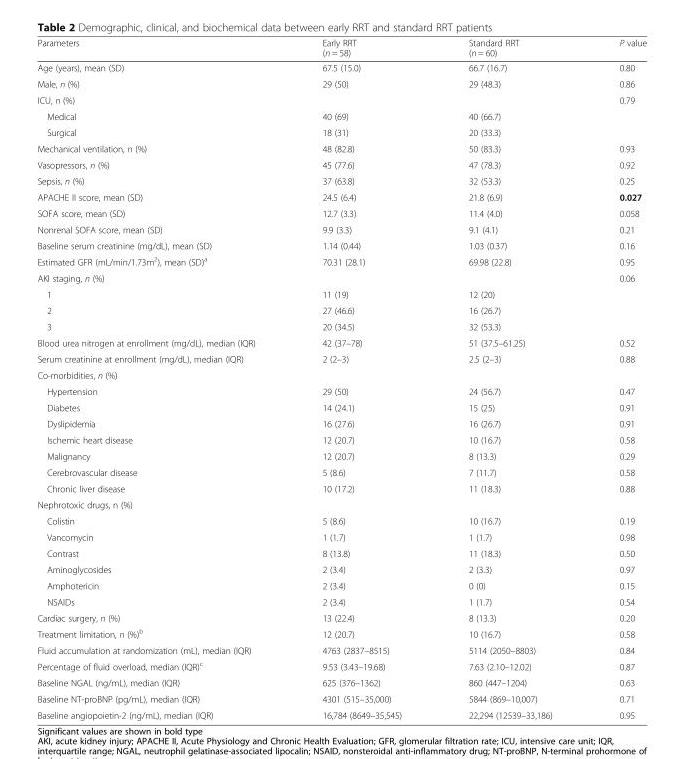table: (36, 37, 646, 720)
table column: (36, 37, 288, 720), (434, 37, 585, 720), (288, 37, 434, 720), (585, 37, 646, 720)
table column header: (36, 37, 646, 59)
table projected row header: (36, 366, 646, 383), (36, 496, 646, 512)
table row: (36, 37, 646, 59), (36, 107, 646, 124), (36, 204, 646, 221), (36, 252, 646, 269), (36, 285, 646, 302), (36, 366, 646, 383), (36, 463, 646, 480), (36, 544, 646, 561), (36, 657, 646, 674), (36, 59, 646, 75), (36, 75, 646, 91), (36, 91, 646, 107), (36, 124, 646, 140), (36, 140, 646, 156), (36, 156, 646, 172), (36, 172, 646, 188), (36, 188, 646, 204), (36, 221, 646, 237), (36, 269, 646, 285), (36, 302, 646, 318), (36, 318, 646, 334), (36, 334, 646, 350), (36, 350, 646, 366), (36, 383, 646, 399), (36, 399, 646, 415), (36, 415, 646, 431), (36, 431, 646, 447), (36, 447, 646, 463), (36, 480, 646, 496), (36, 496, 646, 512), (36, 512, 646, 528), (36, 528, 646, 544), (36, 561, 646, 577), (36, 577, 646, 593), (36, 593, 646, 609), (36, 609, 646, 625), (36, 625, 646, 641), (36, 641, 646, 657), (36, 674, 646, 690), (36, 690, 646, 706), (36, 237, 646, 252), (36, 706, 646, 720)
